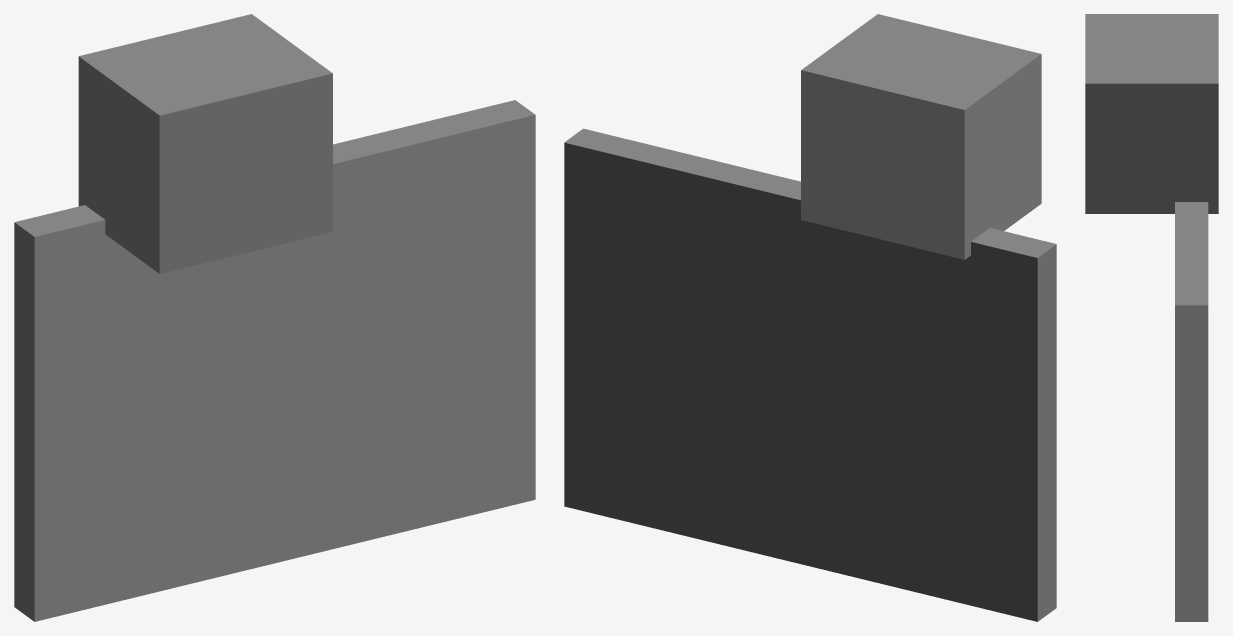
The picture shows the model from 3 angles, left to right: view 1: azimuth 30°, elevation 25°; view 2: azimuth 150°, elevation 25°; view 3: azimuth 270°, elevation 25°; orthographic projection. The views are drawn at different scales.
Size of the model in its own units: 0.39 by 0.3935 by 0.1095.
